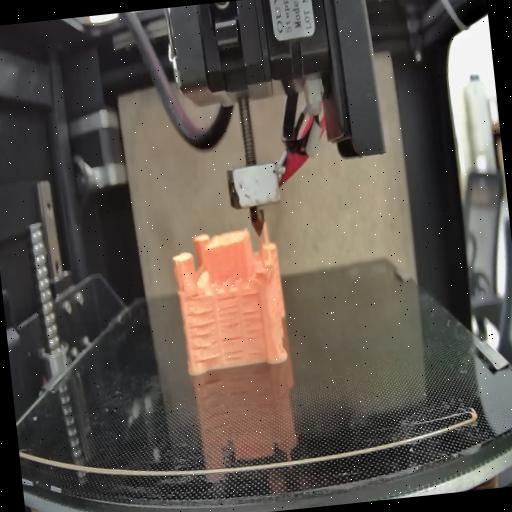cracks: (216, 296, 244, 363), (188, 308, 220, 362), (243, 306, 270, 358), (191, 286, 203, 302), (240, 289, 259, 299)
